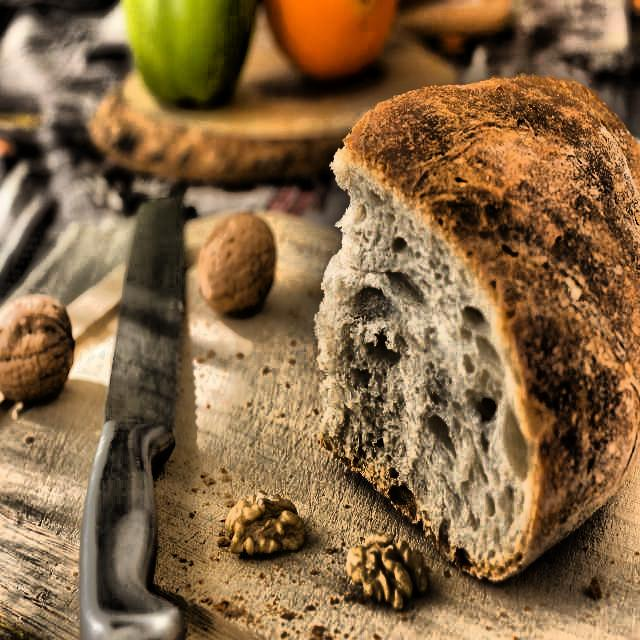knife: (84, 174, 200, 640)
